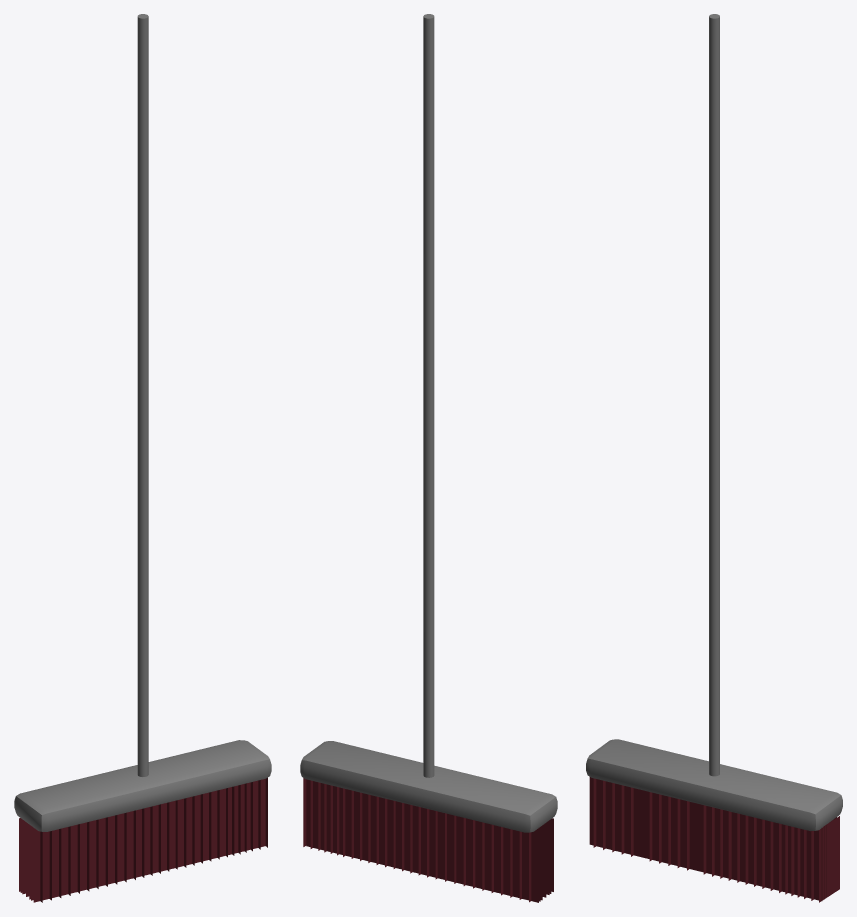
Rendered from SM_Balais_low.fbx.
The picture shows the model from 3 angles, left to right: view 1: azimuth 30°, elevation 25°; view 2: azimuth 150°, elevation 25°; view 3: azimuth 330°, elevation 25°; orthographic projection.
Visible parts, largest first — view 1: SM_Balais_low; view 2: SM_Balais_low; view 3: SM_Balais_low.
Boxes of the visible parts, x1=… form: SM_Balais_low: x1=14, y1=14, x2=271, y2=902; SM_Balais_low: x1=300, y1=14, x2=557, y2=902; SM_Balais_low: x1=586, y1=14, x2=842, y2=902.
Size of the model in its own units: 128 by 447 by 27.75.
